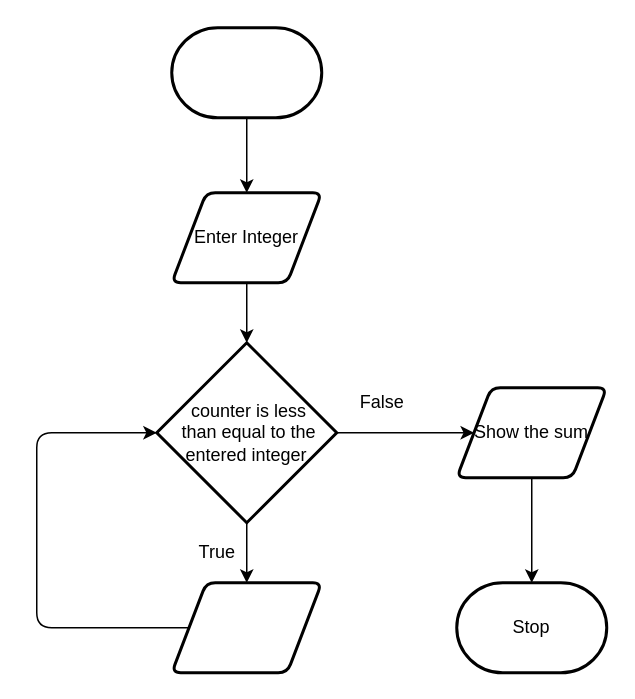
This 635x699 diagram has some shape labels left out. Each missing label, with the box of its shape:
Add one to counter: (170, 580, 322, 674)
Start: (170, 26, 322, 118)
